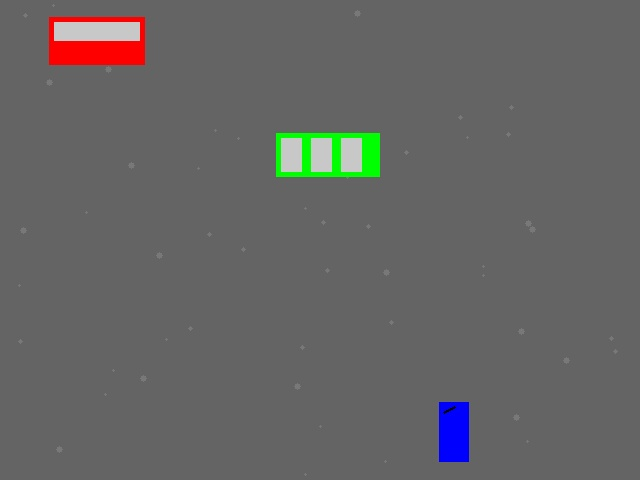bus: (276, 133, 379, 176)
car: (49, 17, 144, 64)
motorcycle: (439, 402, 468, 461)
